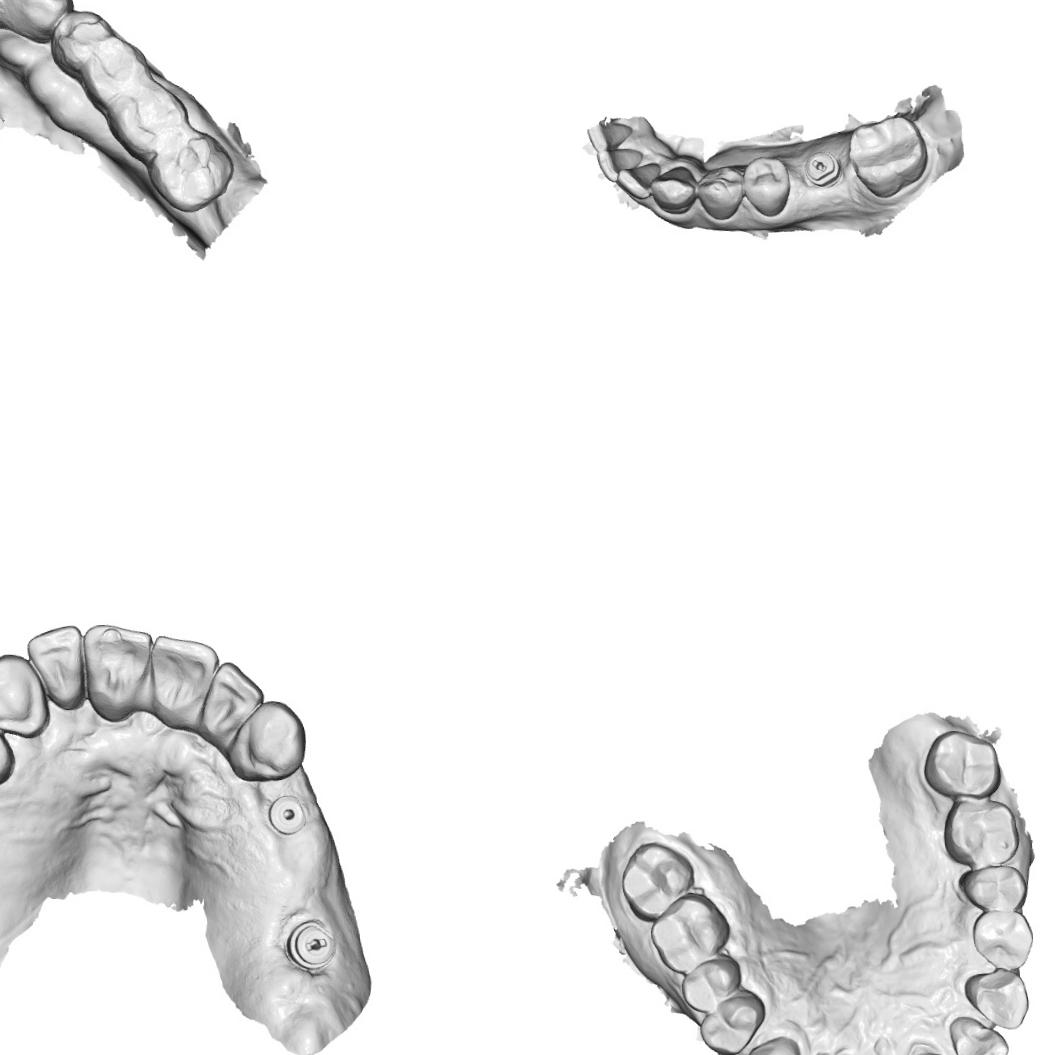canine: (222, 696, 308, 786), (0, 651, 51, 741), (962, 966, 1030, 1032), (2, 0, 73, 42), (648, 164, 698, 216), (743, 1034, 803, 1055)
implant: (266, 790, 314, 846)
implant_minus: (290, 916, 338, 972), (801, 148, 844, 189)
incisor: (147, 632, 214, 728), (81, 624, 150, 717), (28, 626, 94, 708), (205, 659, 264, 730), (946, 1012, 1008, 1055), (594, 146, 645, 182), (615, 161, 662, 200), (585, 117, 633, 152)
molar: (146, 131, 237, 212), (647, 890, 731, 977), (846, 114, 929, 200), (617, 839, 696, 924), (107, 82, 190, 160), (920, 727, 1002, 801), (940, 795, 1022, 868)
premolar: (81, 35, 148, 110), (696, 988, 767, 1055), (50, 5, 115, 72), (970, 907, 1036, 972), (678, 952, 742, 1014), (957, 862, 1029, 914), (741, 154, 791, 218), (695, 164, 746, 222)
